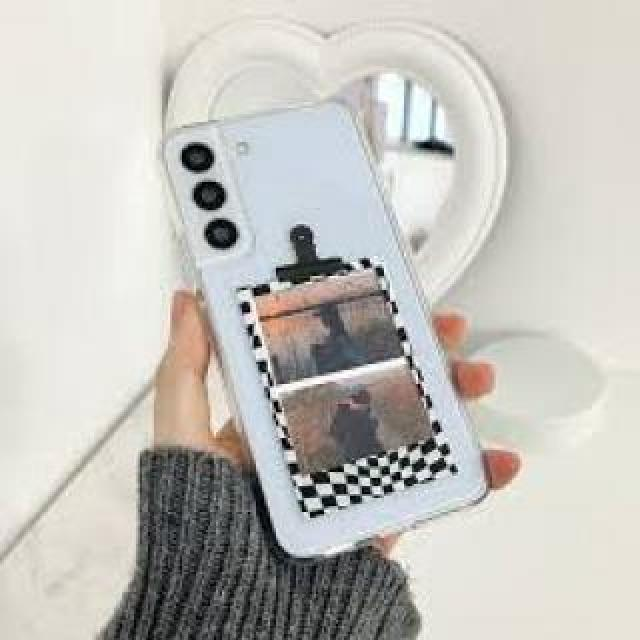smart phone: (158, 86, 504, 532)
